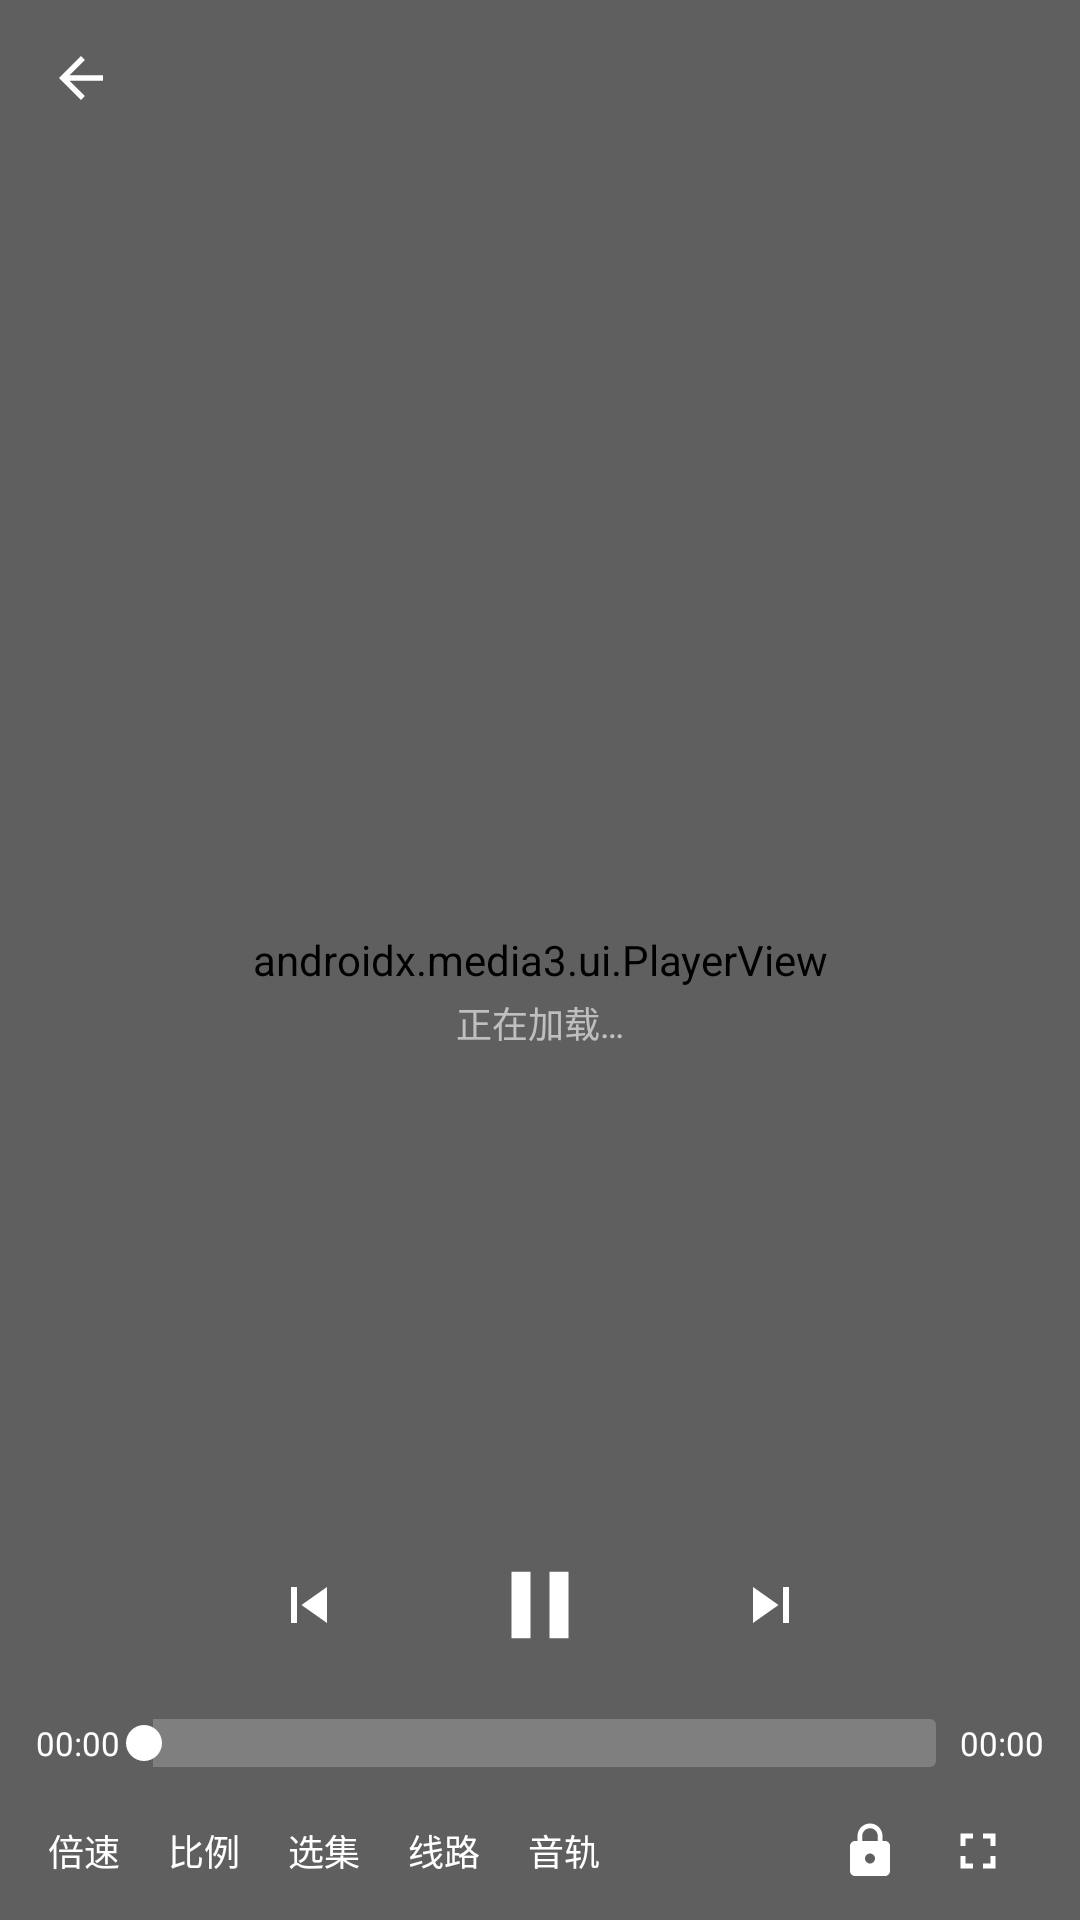

Locate icon controls on the screen. Image size 1080*1920, boxes as (x1, y1, x2, y2).
back: (59, 56, 103, 100)
fullscreen: (960, 1833, 996, 1869)
lock: (850, 1823, 890, 1876)
next: (753, 1587, 789, 1623)
pause: (511, 1571, 569, 1639)
prev: (291, 1587, 327, 1623)
